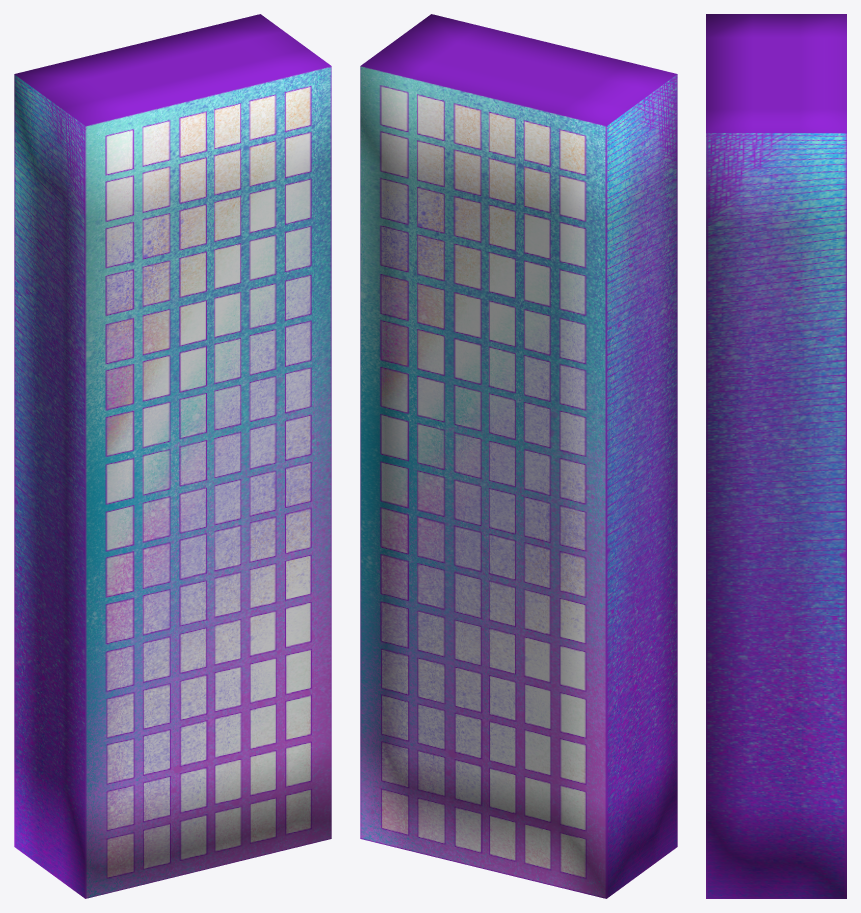
File: Build_A.obj
The picture shows the model from 3 angles, left to right: view 1: azimuth 30°, elevation 25°; view 2: azimuth 150°, elevation 25°; view 3: azimuth 270°, elevation 25°; orthographic projection.
Parts seen in each view (by area): view 1: Build_A; view 2: Build_A; view 3: Build_A.
Boxes of the visible parts, left/top/right/bottom form: Build_A: left=14, top=14, right=331, bottom=898; Build_A: left=360, top=14, right=677, bottom=898; Build_A: left=706, top=14, right=846, bottom=898.
Bounding box in the file's own units: 40 × 120 × 20.
